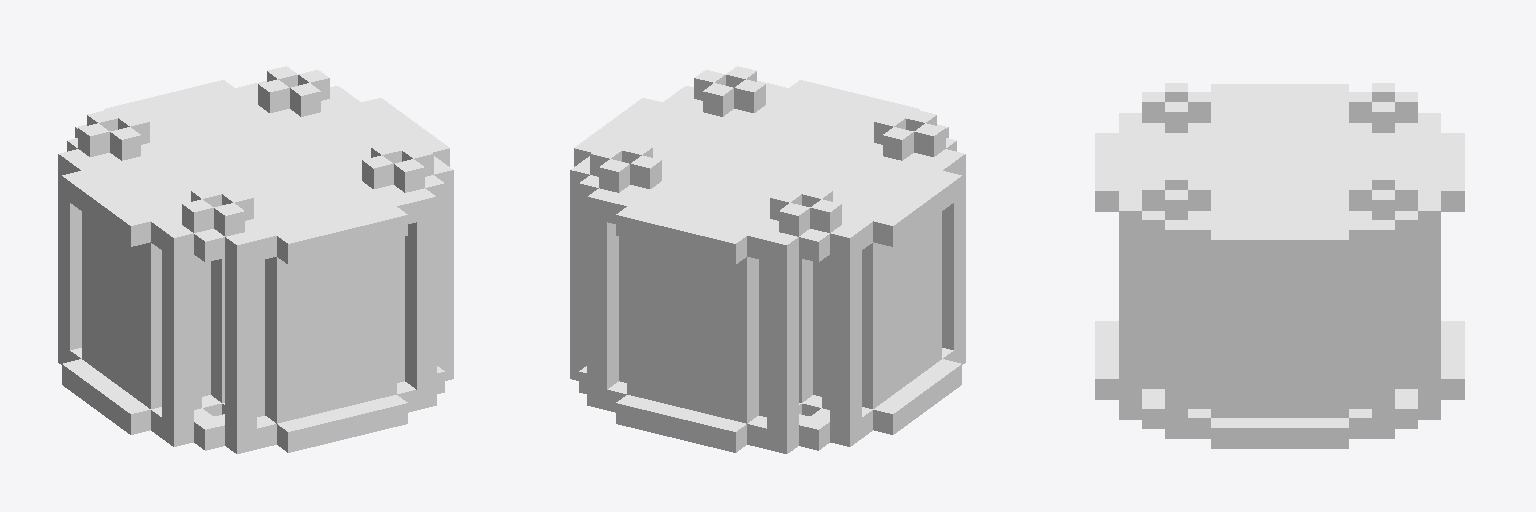
File: plant_tomato_top.vox.obj
The picture shows the model from 3 angles: view 1: azimuth 30°, elevation 25°; view 2: azimuth 150°, elevation 25°; view 3: azimuth 270°, elevation 25°; orthographic projection.
Parts seen in each view (by area): view 1: object 1; view 2: object 1; view 3: object 1.
Boxes of the visible parts, x1,y1,x2,y2 form: object 1: [58, 66, 453, 453]; object 1: [570, 66, 965, 453]; object 1: [1095, 83, 1464, 448].
Bounding box in the file's own units: 1.6 × 1.1 × 1.6.